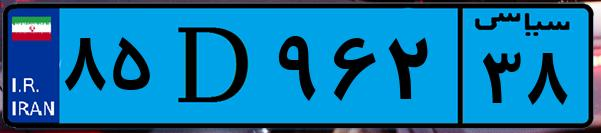2: (385, 28, 445, 110)
3: (475, 38, 525, 113)
5: (110, 28, 158, 98)
6: (330, 28, 385, 110)
8: (57, 26, 110, 100), (525, 38, 570, 115)
9: (270, 28, 330, 110)
D: (158, 12, 270, 120)
